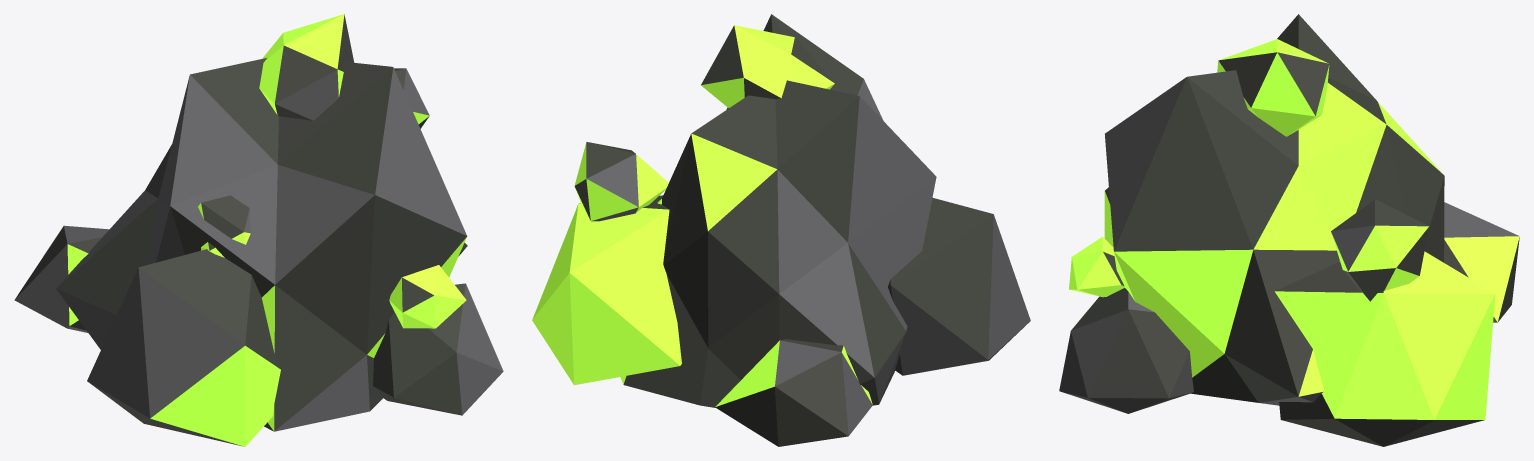
The model's file is uranium_ore_a.glb.
3 views of the same model, side by side, from view 1: azimuth 30°, elevation 25°; view 2: azimuth 150°, elevation 25°; view 3: azimuth 270°, elevation 25° (orthographic). The views are drawn at different scales.
Visible parts, largest first — view 1: uranium_ore_a; view 2: uranium_ore_a; view 3: uranium_ore_a.
Boxes of the visible parts, <box> form: uranium_ore_a: <box>14,14,503,446</box>; uranium_ore_a: <box>532,14,1030,446</box>; uranium_ore_a: <box>1059,14,1519,446</box>.
Size of the model in its own units: 1.12 by 0.8645 by 1.08.
